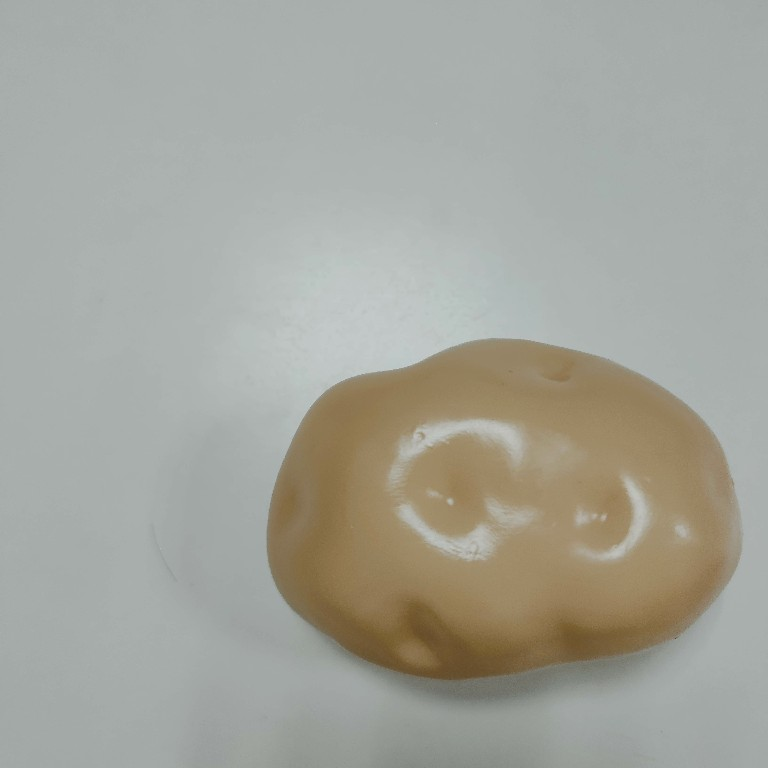fruit_potato: (257, 335, 748, 685)
